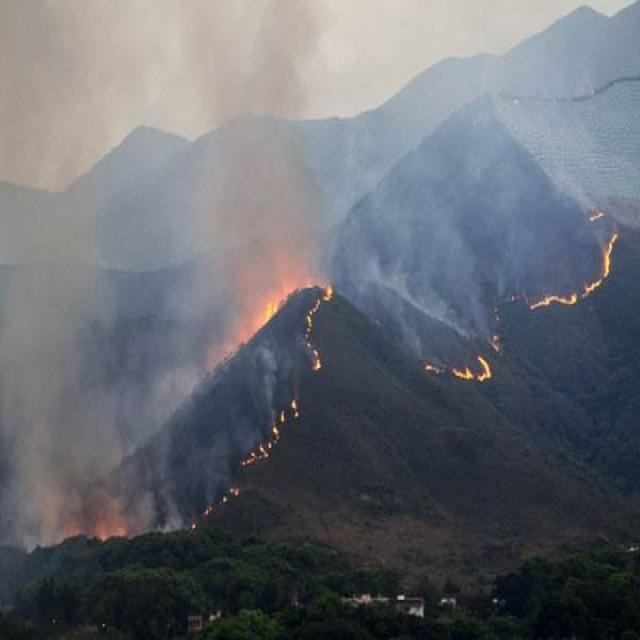Fire: (529, 232, 618, 312), (239, 398, 300, 468), (304, 282, 333, 372), (422, 353, 492, 382)
Smoke: (1, 1, 593, 552)
